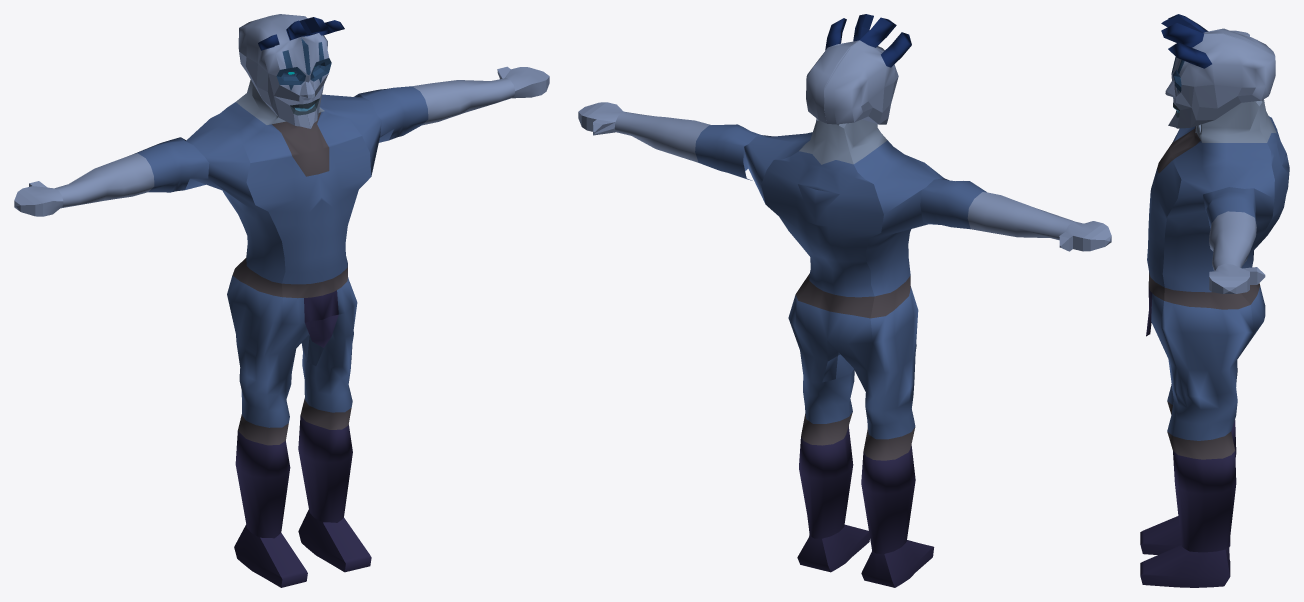
Rendered from Hellwarrior.fbx.
3 renders of one model, left to right at view 1: azimuth 30°, elevation 25°; view 2: azimuth 150°, elevation 25°; view 3: azimuth 270°, elevation 25°, orthographic.
Parts seen in each view (by area): view 1: Box001.001, CABEZA.001; view 2: Box001.001, CABEZA.001; view 3: Box001.001, CABEZA.001.
Boxes of the visible parts, x1,y1,x2,y2 form: Box001.001: [14, 66, 549, 587]; CABEZA.001: [238, 14, 344, 128]; Box001.001: [578, 102, 1111, 587]; CABEZA.001: [806, 14, 911, 124]; Box001.001: [1140, 30, 1289, 587]; CABEZA.001: [1161, 14, 1275, 128].
Bounding box in the file's own units: 2910 × 2870 × 713.
